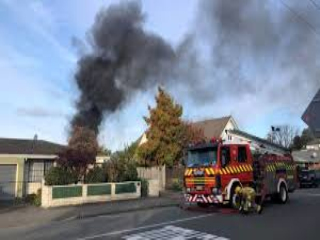smoke: (52, 4, 168, 158)
